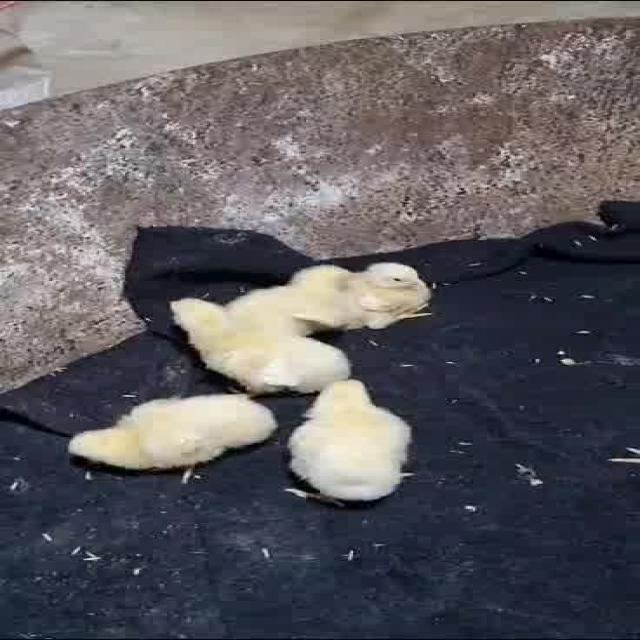poussin: (65, 393, 284, 486), (294, 376, 416, 515), (170, 298, 347, 385), (330, 256, 435, 336), (235, 266, 359, 326)
